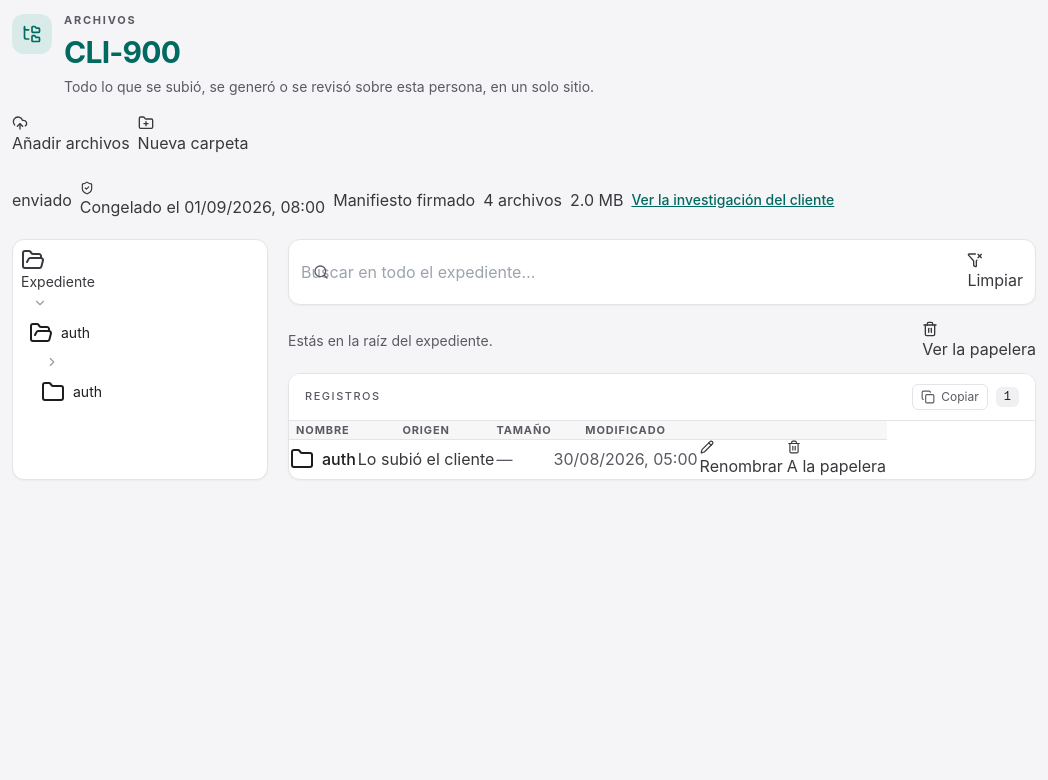
Test case: ExpedientePage › un fallo al crear la carpeta se explica en vez de callarse
The width and height of the screenshot is (1048, 780).
Click the button "Nueva carpeta".
click(193, 134)  # box [138, 114, 248, 154]
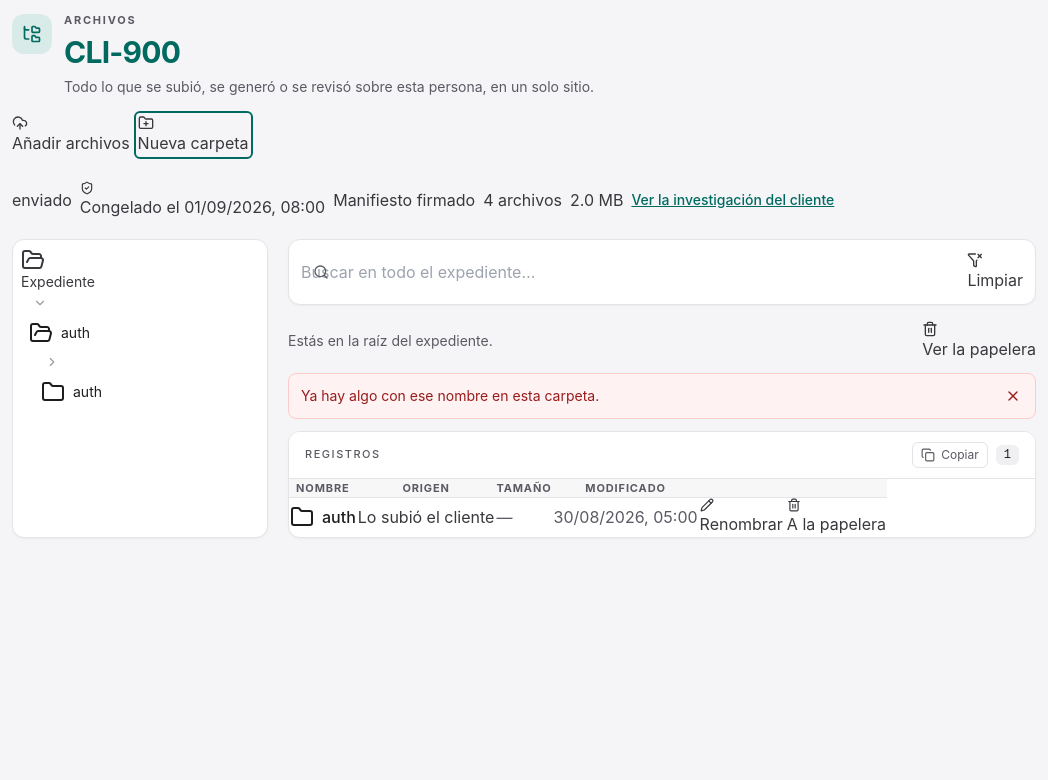
expect the message reads "Ya hay algo con ese nombre en esta carpeta.": met, box [301, 386, 599, 404]
